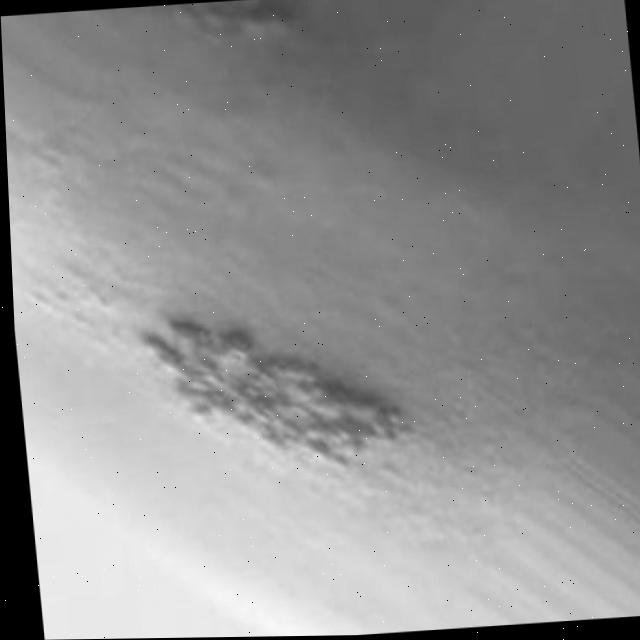Shingles: (139, 301, 404, 472), (181, 0, 283, 51)
